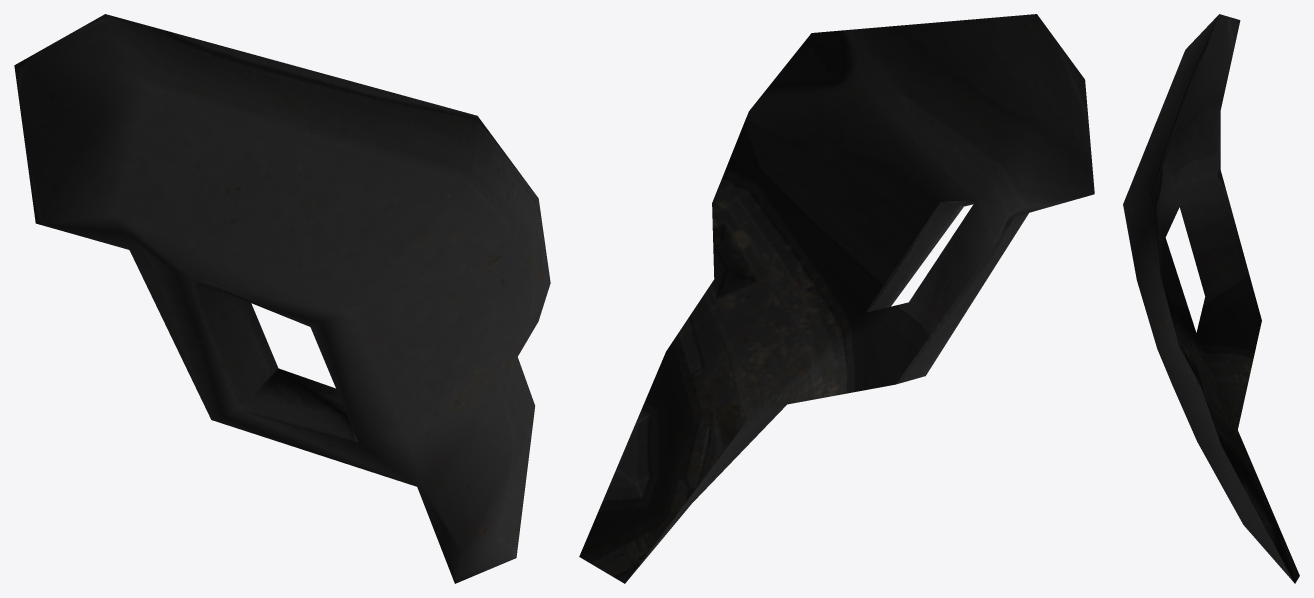
File: armor_back_low_left.dae
3 renders of one model, left to right at view 1: azimuth 30°, elevation 25°; view 2: azimuth 150°, elevation 25°; view 3: azimuth 270°, elevation 25°, orthographic. The views are drawn at different scales.
Visible parts, largest first — view 1: armor_back_low_left; view 2: armor_back_low_left; view 3: armor_back_low_left.
Boxes of the visible parts, x1,y1,x2,y2 form: armor_back_low_left: (14,14,550,583); armor_back_low_left: (579,14,1094,583); armor_back_low_left: (1123,14,1299,583).
Bounding box in the file's own units: 0.3991 × 0.1836 × 0.5019.
Materials: 1 (1 with a texture image).
